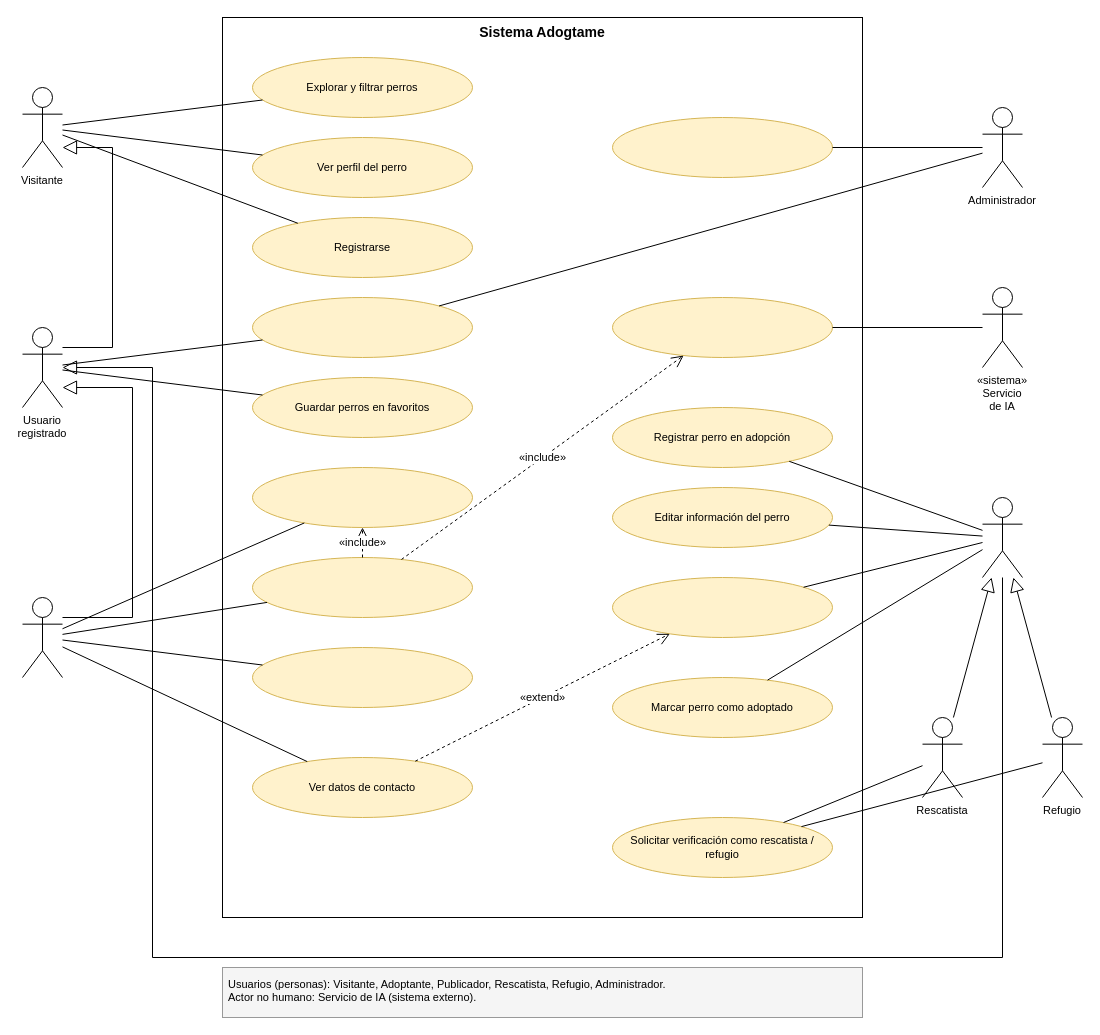
Some shapes in this 1100 by 1035 pixel diagram are drawn without their labels. The centre of each missing label's shape, as x and y in pixels:
"Adoptante" goes at [42,637].
"Analizar perfil del adoptante" goes at [722,327].
"Gestionar solicitudes de adopción" goes at [722,607].
"Gestionar verificaciones (aprobar / rechazar / revocar)" goes at [722,147].
"Iniciar sesión" goes at [362,327].
"Publicador" goes at [1002,537].
"Realizar test de funciones cognitivas" goes at [362,497].
"Recibir recomendaciones de perros" goes at [362,587].
"Solicitar adopción" goes at [362,677].
